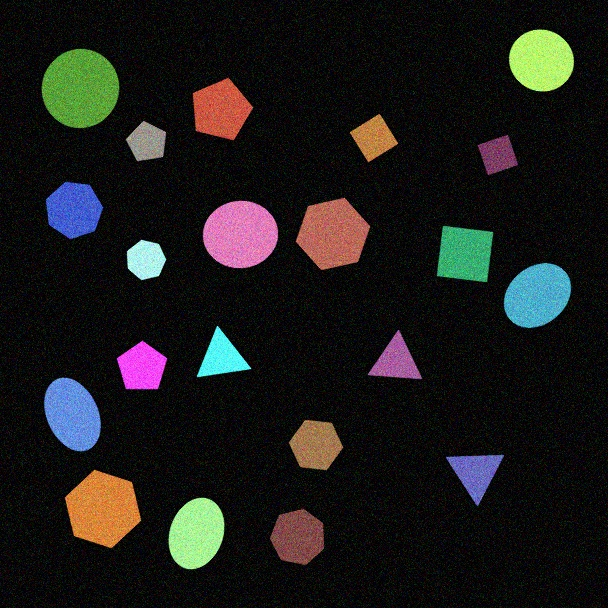Circulo: (41, 48, 120, 129), (202, 200, 279, 269), (508, 29, 575, 92)
Elipse: (503, 262, 572, 329), (43, 377, 102, 452), (168, 497, 225, 570)
Heptagono: (45, 181, 104, 240), (269, 508, 325, 566), (126, 239, 167, 281)
Hexagono: (64, 469, 142, 549), (295, 197, 371, 271), (288, 419, 344, 471)
Pentagono: (192, 77, 254, 141), (116, 340, 168, 390), (125, 120, 167, 162)
Quadrado: (436, 225, 494, 283), (349, 113, 399, 163), (477, 134, 519, 176)
Triangulo: (445, 454, 505, 507), (196, 326, 252, 378), (367, 330, 423, 380)
